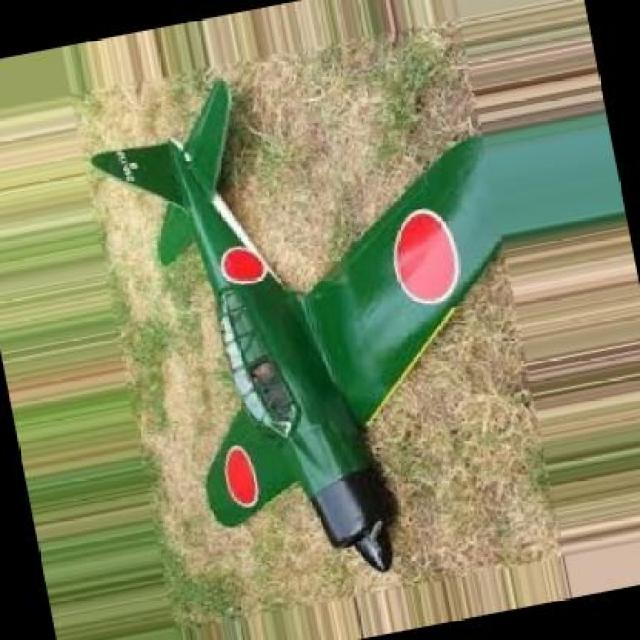iha: (90, 66, 515, 581)
